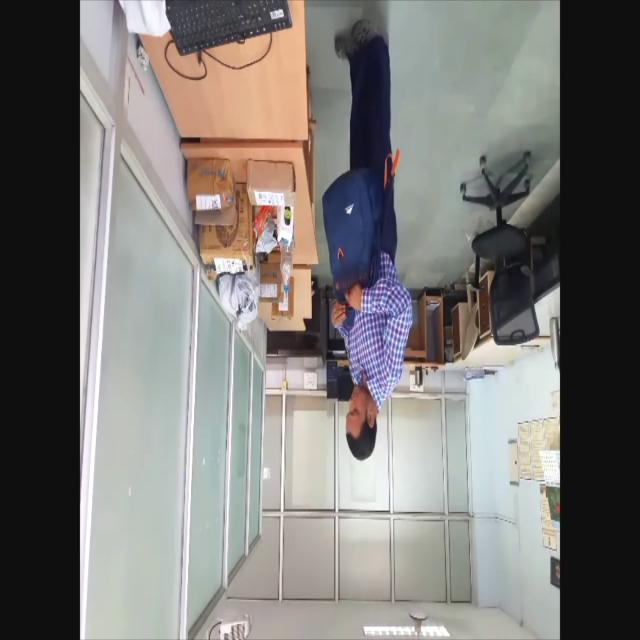shoplifting: (321, 16, 415, 481)
